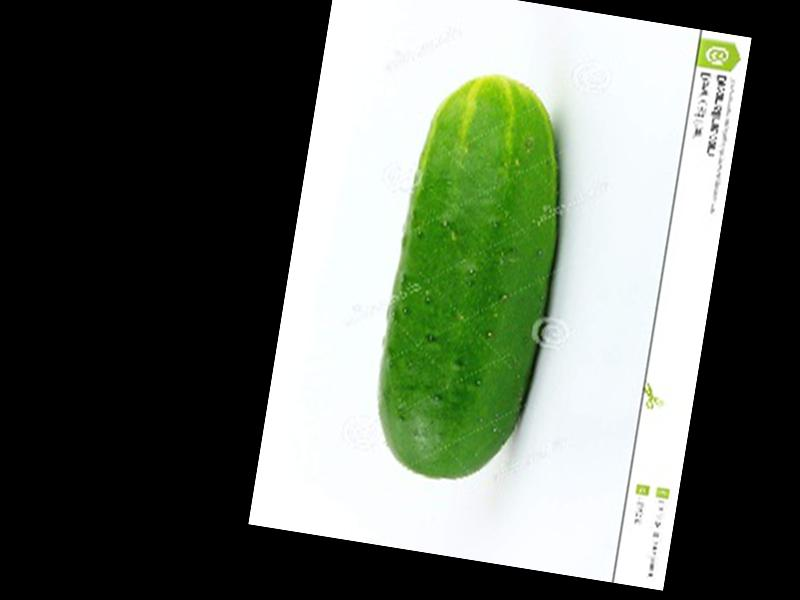Cucumber: (366, 66, 582, 492)
